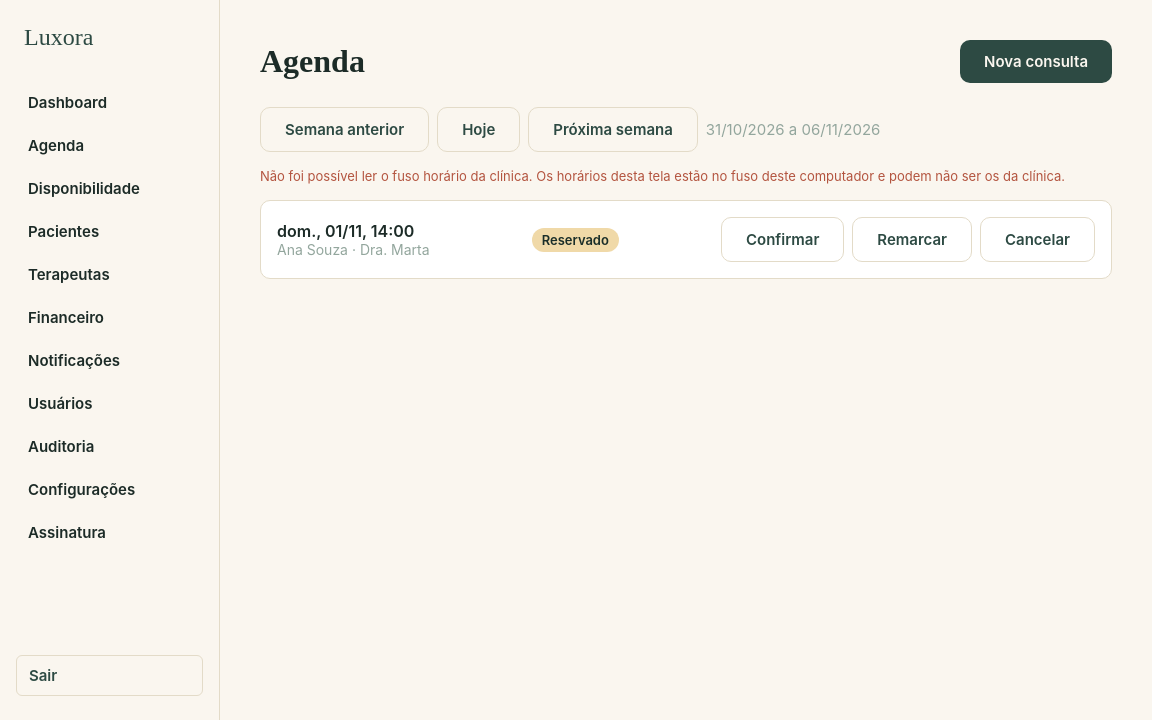
AgendaPage — ações de cada estado › erro ao cancelar aparece dentro da confirmação, que continua aberta
Click the button "Cancelar" at {"x": 1038, "y": 240}, box x1=980 y1=217 x2=1095 y2=262
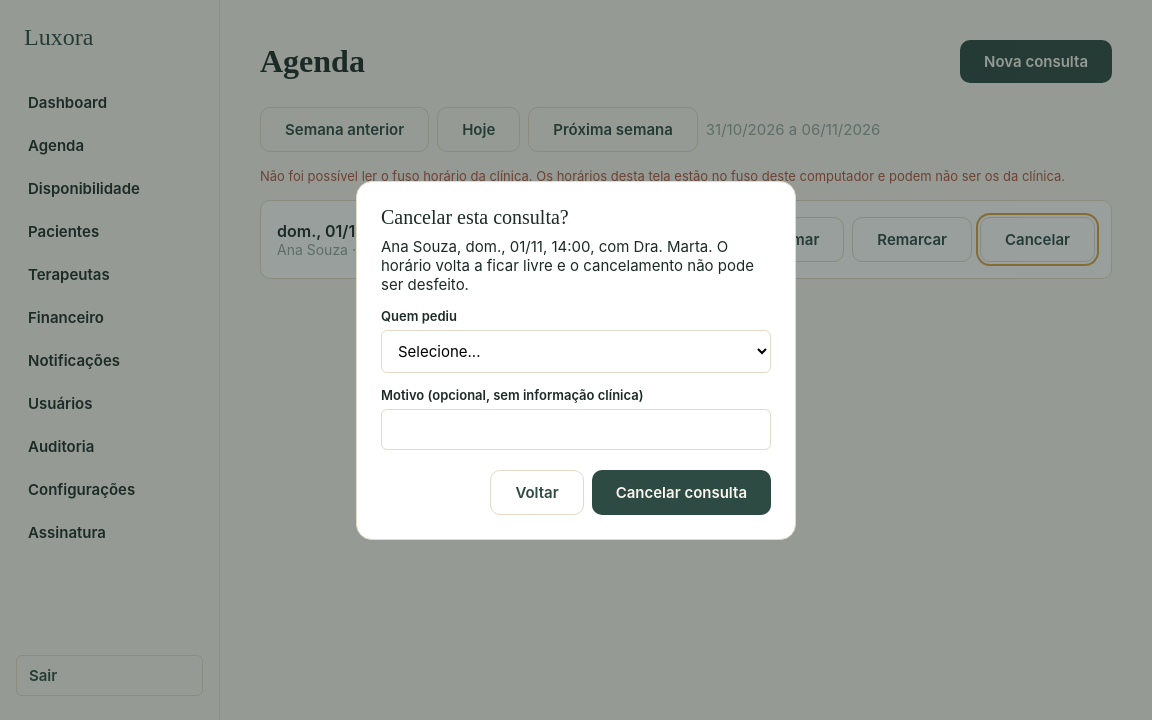
Select "Paciente" in the dropdown labelled "Quem pediu" at {"x": 576, "y": 351}, box x1=381 y1=330 x2=771 y2=372
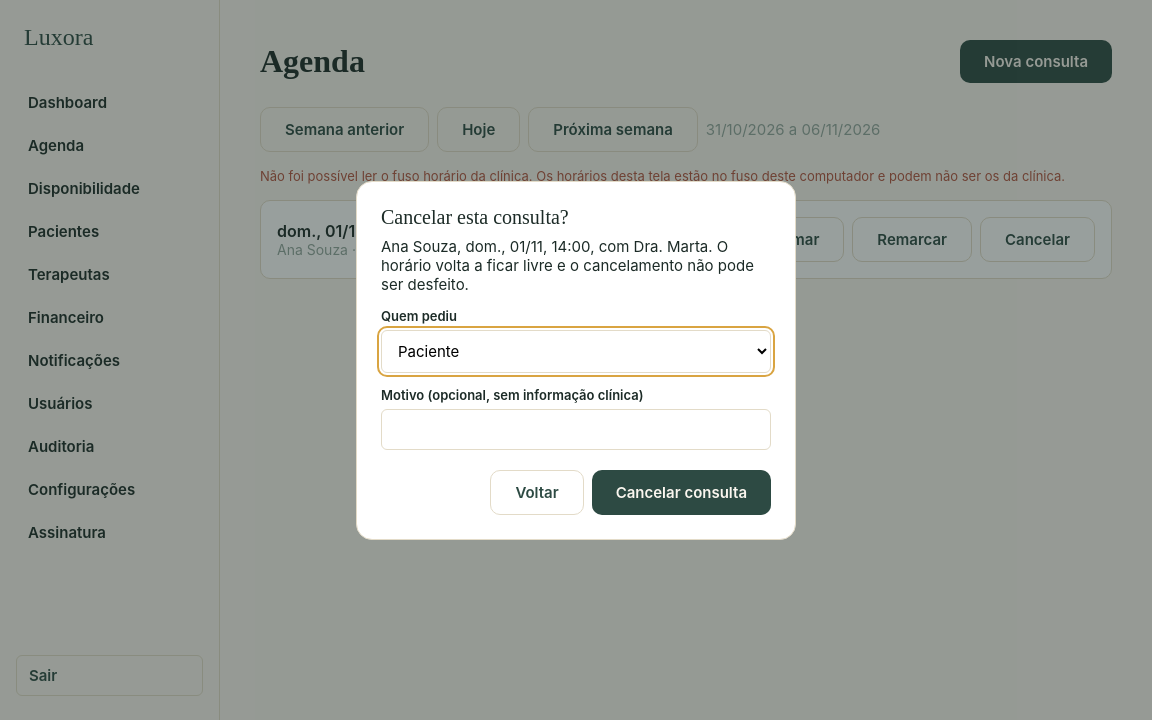
Click the button "Cancelar consulta" at {"x": 681, "y": 492}, box x1=592 y1=470 x2=771 y2=514
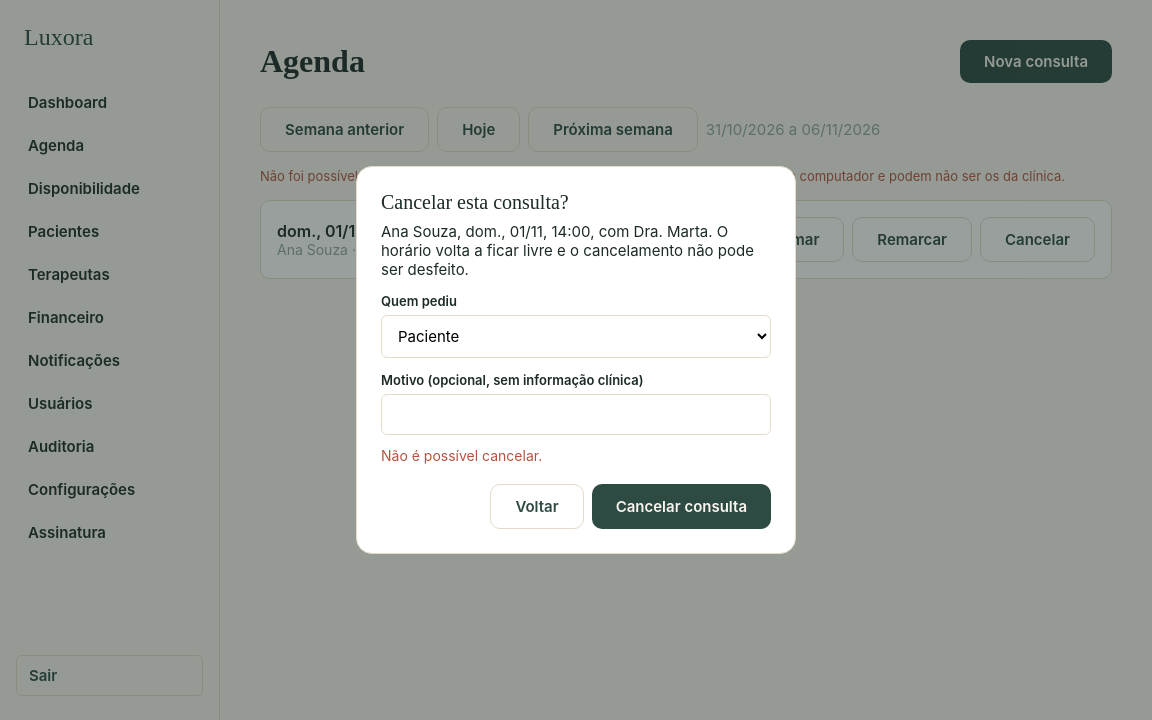
Check: the message shows "Não é possível cancelar", box x1=381 y1=447 x2=542 y2=464
